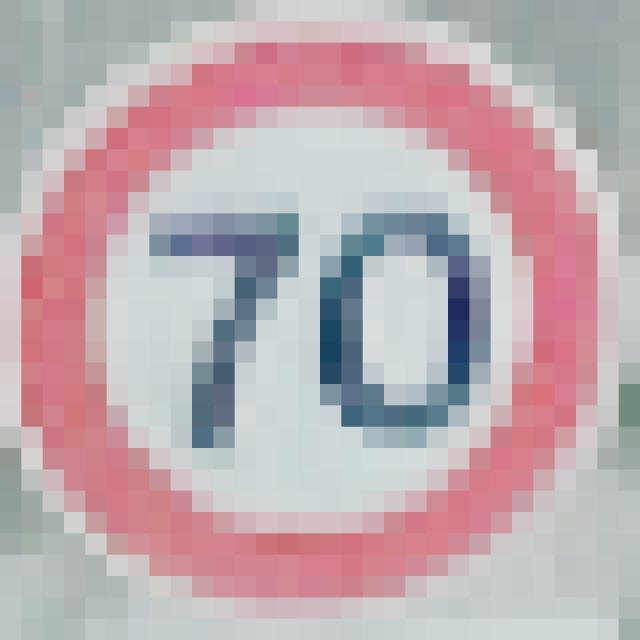speed_70: (0, 0, 619, 619)
